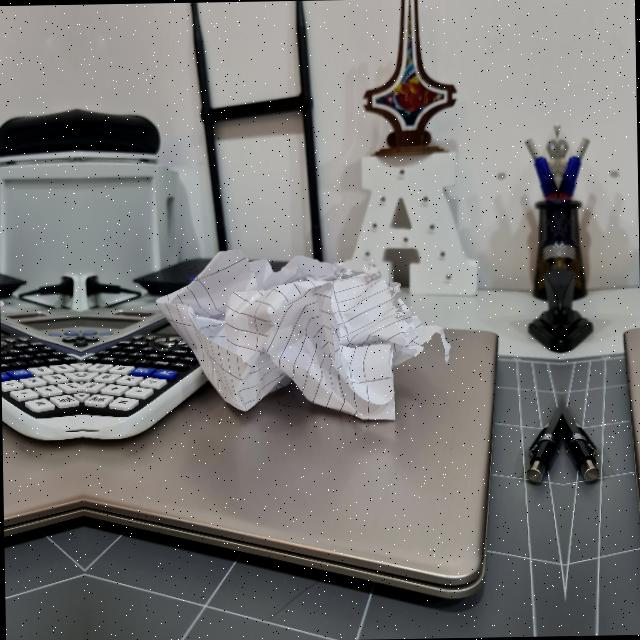paper: (162, 256, 428, 424)
